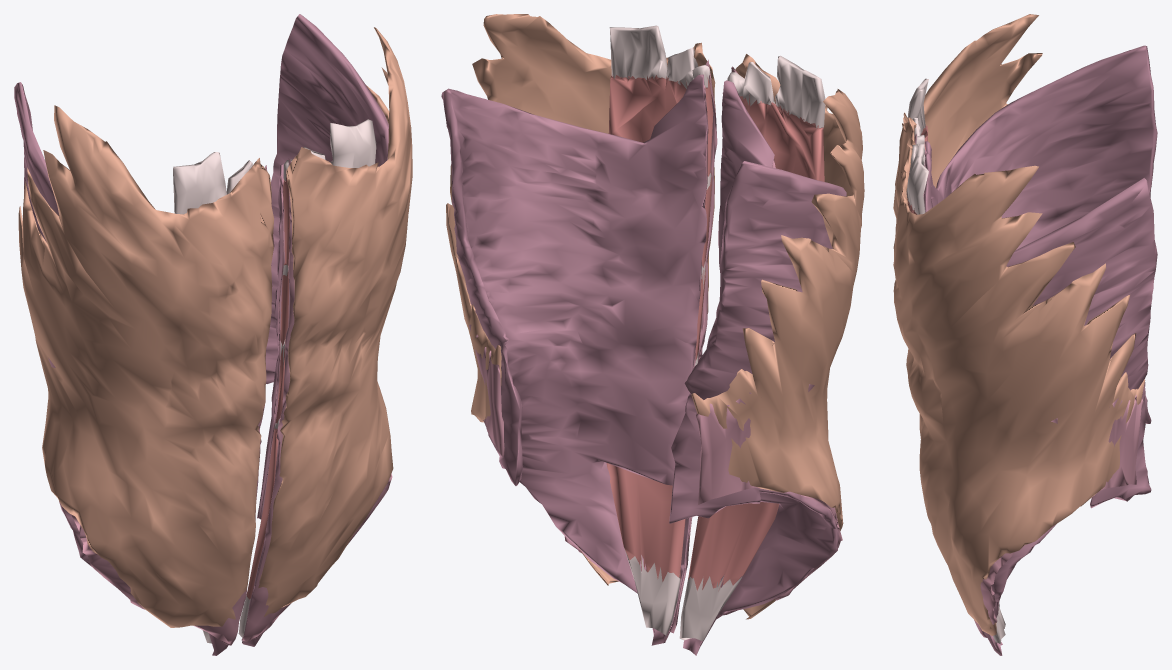
Rendered from zanatomy-abdo.glb.
3 renders of one model, left to right at view 1: azimuth 30°, elevation 25°; view 2: azimuth 150°, elevation 25°; view 3: azimuth 270°, elevation 25°, orthographic. The views are drawn at different scales.
Visible parts, largest first — view 1: external_r, external_l, transversus_l, rectus_l, internal_l, rectus_r, transversus_r, internal_r; view 2: transversus_l, transversus_r, external_r, rectus_l, rectus_r, external_l, internal_r, internal_l; view 3: external_l, transversus_r, transversus_l, external_r, internal_l, rectus_l, rectus_r.
Part boxes in pixels (bbox=[...]): external_r: bbox=[18, 105, 274, 627]; external_l: bbox=[258, 27, 412, 616]; transversus_l: bbox=[242, 14, 388, 646]; rectus_l: bbox=[238, 119, 376, 637]; internal_l: bbox=[241, 158, 392, 641]; rectus_r: bbox=[173, 152, 252, 643]; transversus_r: bbox=[14, 82, 228, 655]; internal_r: bbox=[48, 165, 274, 645]; transversus_l: bbox=[441, 74, 707, 645]; transversus_r: bbox=[669, 80, 846, 655]; external_r: bbox=[691, 54, 864, 619]; rectus_l: bbox=[606, 25, 713, 635]; rectus_r: bbox=[679, 55, 825, 640]; external_l: bbox=[446, 14, 715, 585]; internal_r: bbox=[695, 66, 842, 619]; internal_l: bbox=[469, 59, 717, 633]; external_l: bbox=[893, 137, 1145, 635]; transversus_r: bbox=[925, 45, 1157, 423]; transversus_l: bbox=[924, 153, 1157, 655]; external_r: bbox=[893, 14, 1042, 438]; internal_l: bbox=[909, 165, 1143, 637]; rectus_l: bbox=[906, 144, 1005, 643]; rectus_r: bbox=[908, 78, 1005, 628].
Size of the model in its own units: 0.2815 by 0.4383 by 0.1887.
